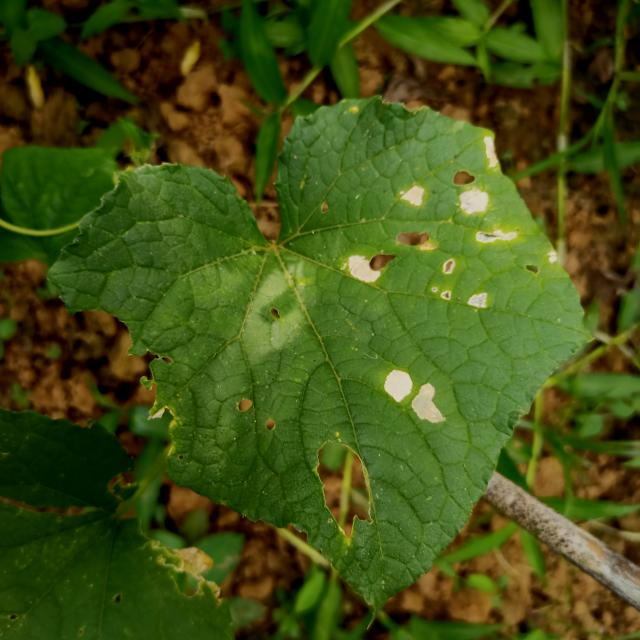disease_cucumber: (349, 138, 517, 308), (386, 371, 445, 424)
